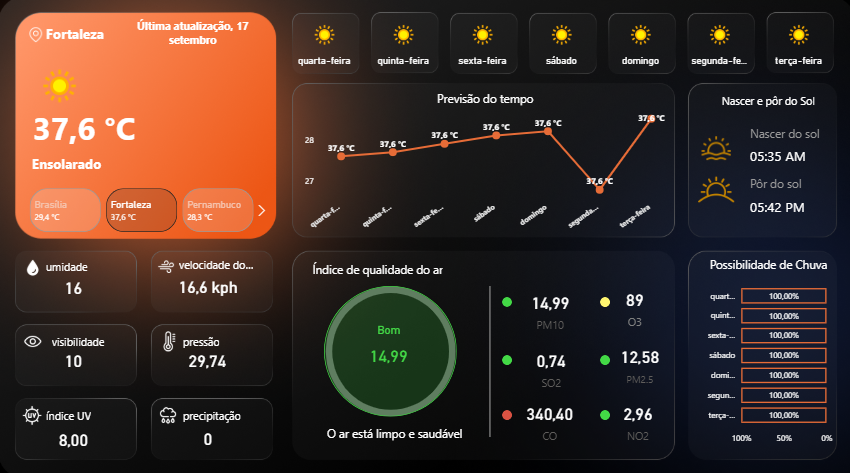

What the dashboard file says about the page in this screenshot:
{"tool":"powerbi","page":{"name":"Página 1","canvas":[1280,720],"ordinal":0},"visuals":[{"type":"advancedSlicerVisual","fields":{"Values":["Locations.location.name"]},"box":[21.8,278.9,386.4,75.6],"z":0},{"type":"shape","box":[52.1,154.5,223.4,73.9],"z":1000},{"type":"shape","box":[50.4,228.4,344.4,37],"z":2000},{"type":"shape","box":[72.2,26.9,159.6,50.4],"z":3000},{"type":"shape","box":[173,26.9,235.2,50.4],"z":4000},{"type":"image","box":[21.8,38.6,68.9,31.9],"z":5000},{"type":"cardVisual","fields":{"Data":["Min(Atual.current.condition.icon)"]},"box":[20.2,70.5,132.7,112.5],"z":6000},{"type":"image","box":[31.9,384.7,40.3,35.3],"z":7000},{"type":"image","box":[231.8,383,38.6,35.3],"z":8000},{"type":"image","box":[26.9,492.2,50.4,40.3],"z":9000},{"type":"image","box":[233.5,492.2,45.4,40.3],"z":10000},{"type":"image","box":[26.9,603,47,40.3],"z":11000},{"type":"image","box":[233.5,603,42,40.3],"z":12000},{"type":"shape","box":[72.2,381.3,137.7,40.3],"z":13000},{"type":"shape","box":[270.4,377.9,137.7,40.3],"z":14000},{"type":"shape","box":[50.4,492.2,137.7,40.3],"z":15000},{"type":"shape","box":[275.5,492.2,137.7,40.3],"z":16000},{"type":"shape","box":[72.2,603,137.7,40.3],"z":17000},{"type":"shape","box":[275.5,603,137.7,40.3],"z":18000},{"type":"cardVisual","fields":{"Data":["Median(Atual.current.humidity)"]},"box":[31.9,364.5,162.9,129.3],"z":19000},{"type":"cardVisual","fields":{"Data":["_medidas.wind_Speed"]},"box":[233.5,362.8,161.3,129.3],"z":20000},{"type":"cardVisual","fields":{"Data":["Median(Atual.current.pressure_in)"]},"box":[231.8,473.7,162.9,129.3],"z":21000},{"type":"cardVisual","fields":{"Data":["Median(Atual.current.vis_km)"]},"box":[31.9,473.7,162.9,129.3],"z":22000},{"type":"cardVisual","fields":{"Data":["Avg(Atual.current.uv)"]},"box":[31.9,591.3,162.9,129.3],"z":23000},{"type":"cardVisual","fields":{"Data":["Sum(Atual.current.precip_in)"]},"box":[233.5,589.6,161.3,129.3],"z":24000},{"type":"advancedSlicerVisual","fields":{"Values":["previsão_day.day_Name"]},"box":[426.7,21.8,829.8,97.4],"z":25000},{"type":"lineChart","title":"Previsão do tempo","fields":{"Y":["Avg(previsão_day.forecast.forecastday.day.avgtemp_c)"],"Category":["previsão_day.day_Name"]},"box":[443.5,137.7,567.8,216.7],"z":26000},{"type":"shape","box":[1058.3,137.7,183.1,31.9],"z":27000},{"type":"shape","box":[1122.1,203.2,157.9,62.1],"z":28000},{"type":"shape","box":[1122.1,278.9,157.9,62.1],"z":29000},{"type":"shape","box":[1122.1,169.7,157.9,62.1],"z":30000},{"type":"shape","box":[1122.1,245.2,157.9,62.1],"z":31000},{"type":"image","box":[1011.2,196.5,120.9,53.8],"z":32000},{"type":"image","box":[1006.2,245.2,131,82.3],"z":33000},{"type":"hundredPercentStackedBarChart","title":"Possibilidade de Chuva","fields":{"Y":["Atual.left_value_rain","Sum(previsão_day.forecast.forecastday.day.daily_chance_of_rain)"],"Category":["previsão_day.day_Name"]},"box":[1043.2,384.7,213.3,290.6],"z":34000},{"type":"shape","box":[456.9,389.7,220.1,31.9],"z":35000},{"type":"cardVisual","fields":{"Data":["Avg(Atual.current.air_quality.o3)"]},"box":[910.5,421.6,80.6,90.7],"z":36000},{"type":"cardVisual","fields":{"Data":["Avg(Atual.current.air_quality.pm2_5)"]},"box":[910.5,505.6,95.8,84],"z":37000},{"type":"cardVisual","fields":{"Data":["Avg(Atual.current.air_quality.no2)"]},"box":[907.1,591.3,95.8,84],"z":38000},{"type":"cardVisual","fields":{"Data":["Avg(Atual.current.air_quality.pm10)"]},"box":[772.7,425,102.5,82.3],"z":39000},{"type":"cardVisual","fields":{"Data":["Avg(Atual.current.air_quality.co)"]},"box":[740.8,591.3,166.3,80.6],"z":40000},{"type":"cardVisual","fields":{"Data":["Avg(Atual.current.air_quality.so2)"]},"box":[772.7,512.3,105.8,87.3],"z":41000},{"type":"shape","box":[752.5,446.8,15,15],"z":42000},{"type":"shape","box":[752.5,532.5,15.1,15.1],"z":43000},{"type":"shape","box":[752.5,614.8,15.1,15.1],"z":44000},{"type":"shape","box":[898.7,446.8,15.1,15.1],"z":45000},{"type":"shape","box":[898.7,532.5,15.1,15.1],"z":46000},{"type":"shape","box":[898.7,614.8,15.1,15.1],"z":47000},{"type":"shape","box":[729,430,11.8,225.1],"z":48000},{"type":"cardVisual","fields":{"Data":["Avg(Atual.current.air_quality.pm10)"]},"box":[527.5,485.5,112.5,82.3],"z":49000},{"type":"donutChart","fields":{"Y":["_medidas.left_value_PM10","Sum(Atual.current.air_quality.pm10)"]},"box":[443.5,401.5,285.6,252],"z":50000},{"type":"shape","box":[487.1,430,198.2,194.9],"z":51000},{"type":"shape","box":[456.9,624.9,270.4,47],"z":52000}]}

Visuals, with their boxes in screenshot pixels (x1, y1, x2, y2), scaled from the page's 1280x720 canvas onto the 850x473 screenshot:
advancedSlicerVisual - Locations.location.name: detection(14, 183, 271, 233)
shape: detection(35, 101, 183, 150)
shape: detection(33, 150, 262, 174)
shape: detection(48, 18, 154, 51)
shape: detection(115, 18, 271, 51)
image: detection(14, 25, 60, 46)
cardVisual - Min(Atual.current.condition.icon): detection(13, 46, 102, 120)
image: detection(21, 253, 48, 276)
image: detection(154, 252, 180, 275)
image: detection(18, 323, 51, 350)
image: detection(155, 323, 185, 350)
image: detection(18, 396, 49, 423)
image: detection(155, 396, 183, 423)
shape: detection(48, 250, 139, 277)
shape: detection(180, 248, 271, 275)
shape: detection(33, 323, 125, 350)
shape: detection(183, 323, 274, 350)
shape: detection(48, 396, 139, 423)
shape: detection(183, 396, 274, 423)
cardVisual - Median(Atual.current.humidity): detection(21, 239, 129, 324)
cardVisual - _medidas.wind_Speed: detection(155, 238, 262, 323)
cardVisual - Median(Atual.current.pressure_in): detection(154, 311, 262, 396)
cardVisual - Median(Atual.current.vis_km): detection(21, 311, 129, 396)
cardVisual - Avg(Atual.current.uv): detection(21, 388, 129, 472)
cardVisual - Sum(Atual.current.precip_in): detection(155, 387, 262, 472)
advancedSlicerVisual - previsão_day.day_Name: detection(283, 14, 834, 78)
"Previsão do tempo" lineChart: detection(295, 90, 672, 233)
shape: detection(703, 90, 824, 111)
shape: detection(745, 133, 849, 174)
shape: detection(745, 183, 849, 224)
shape: detection(745, 111, 849, 152)
shape: detection(745, 161, 849, 202)
image: detection(672, 129, 752, 164)
image: detection(668, 161, 755, 215)
"Possibilidade de Chuva" hundredPercentStackedBarChart: detection(693, 253, 834, 444)
shape: detection(303, 256, 450, 277)
cardVisual - Avg(Atual.current.air_quality.o3): detection(605, 277, 658, 337)
cardVisual - Avg(Atual.current.air_quality.pm2_5): detection(605, 332, 668, 387)
cardVisual - Avg(Atual.current.air_quality.no2): detection(602, 388, 666, 444)
cardVisual - Avg(Atual.current.air_quality.pm10): detection(513, 279, 581, 333)
cardVisual - Avg(Atual.current.air_quality.co): detection(492, 388, 602, 441)
cardVisual - Avg(Atual.current.air_quality.so2): detection(513, 337, 583, 394)
shape: detection(500, 294, 510, 303)
shape: detection(500, 350, 510, 360)
shape: detection(500, 404, 510, 414)
shape: detection(597, 294, 607, 303)
shape: detection(597, 350, 607, 360)
shape: detection(597, 404, 607, 414)
shape: detection(484, 282, 492, 430)
cardVisual - Avg(Atual.current.air_quality.pm10): detection(350, 319, 425, 373)
donutChart - _medidas.left_value_PM10 x Sum(Atual.current.air_quality.pm10): detection(295, 264, 484, 429)
shape: detection(323, 282, 455, 411)
shape: detection(303, 411, 483, 441)
